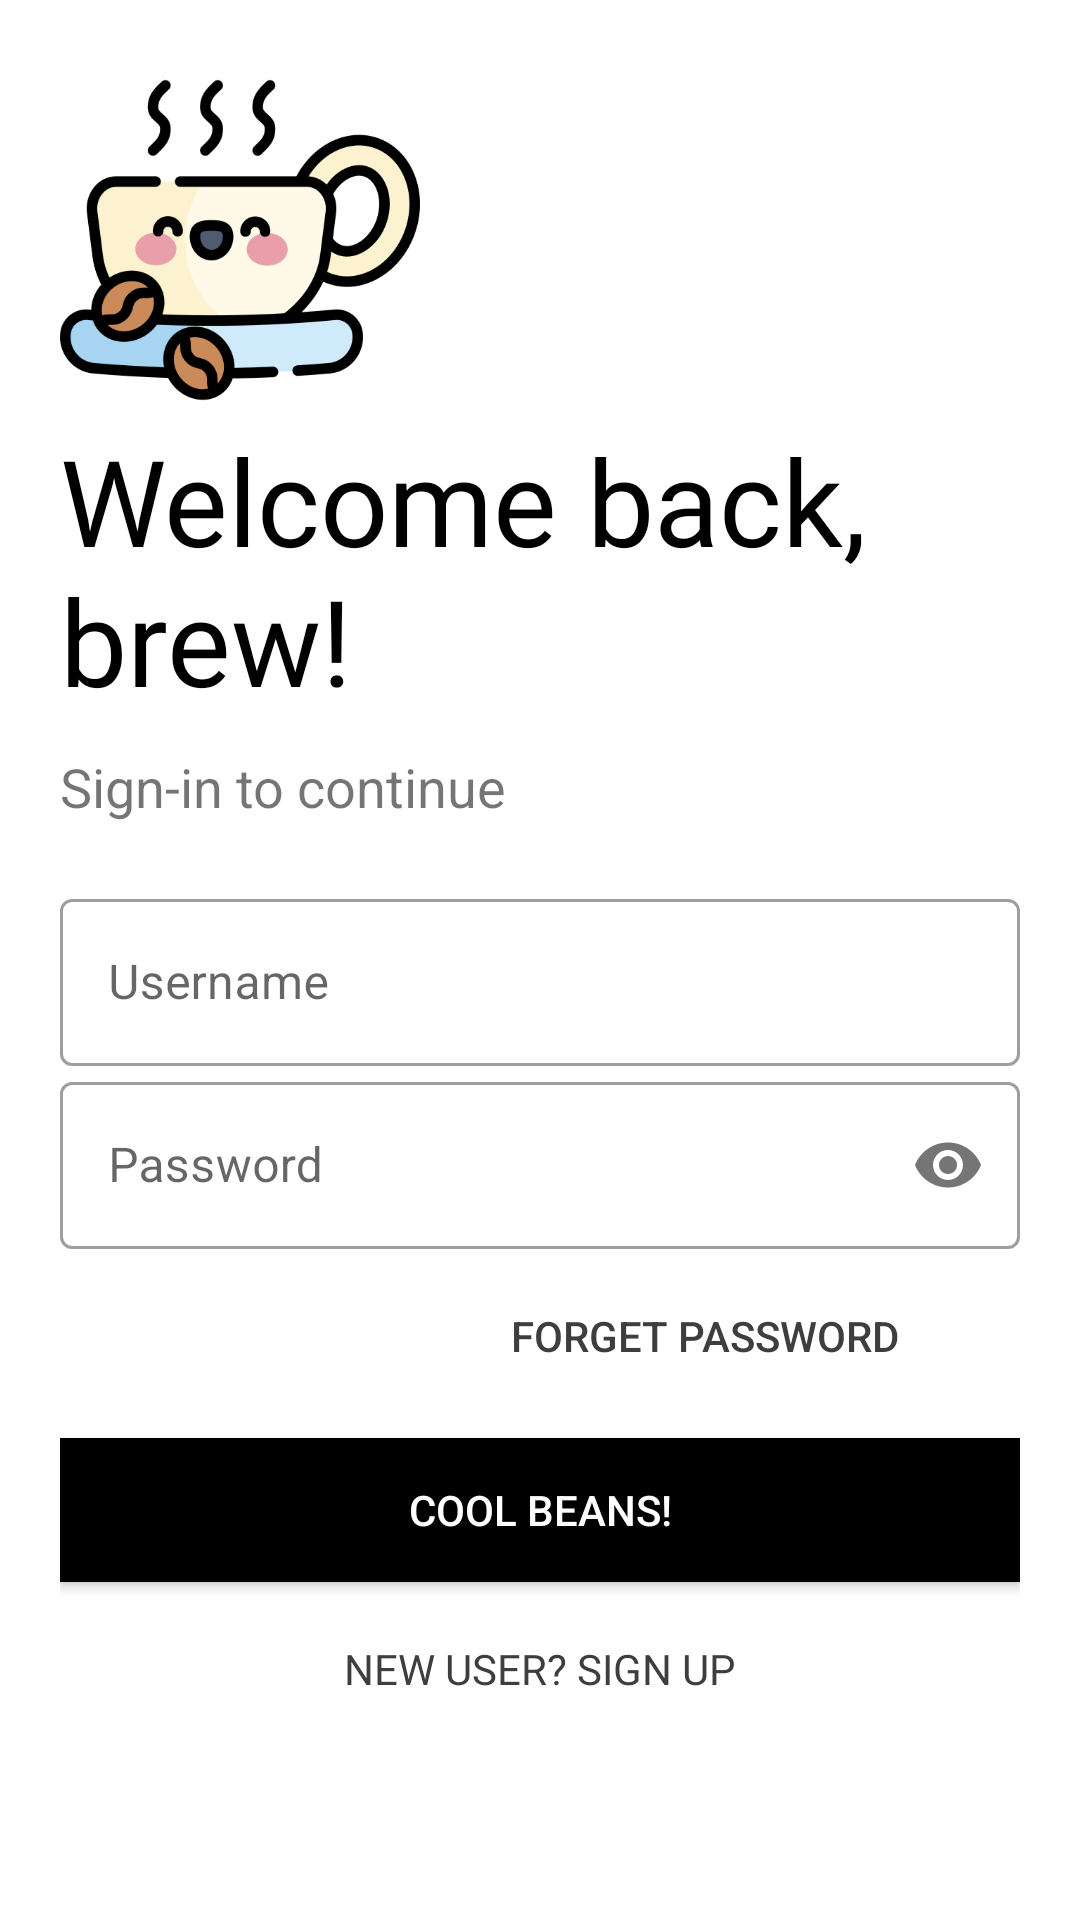

Icon bounding boxes for this 1080px×1920px phone screenshot, format (x1, y1, x2, y2):
coffee: (60, 80, 420, 400)
